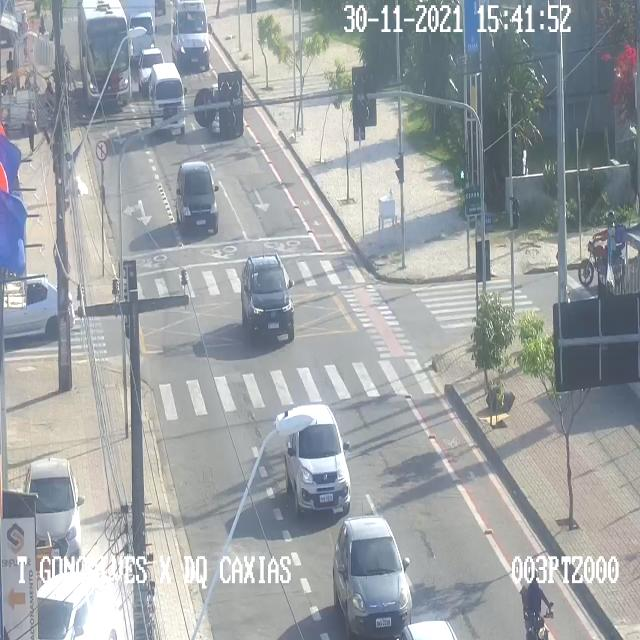Bus: (78, 0, 130, 114)
Car: (334, 516, 412, 636), (285, 402, 349, 514), (23, 455, 83, 562), (36, 573, 116, 639), (2, 277, 74, 346), (242, 256, 296, 346), (174, 158, 220, 238), (170, 1, 212, 72), (148, 61, 186, 135), (138, 52, 164, 94)
Motorcycle: (578, 211, 626, 286), (522, 577, 554, 639)
Truck: (120, 0, 160, 63)
